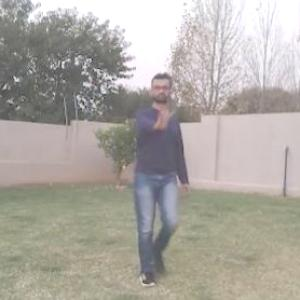takeoff-hand: (152, 100, 176, 130)
